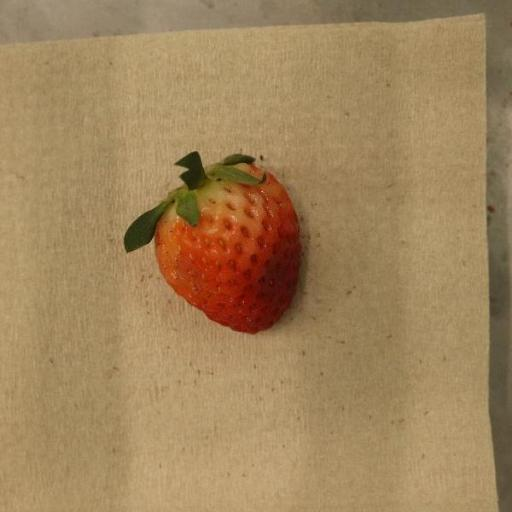Strawberry: (124, 152, 301, 335)
